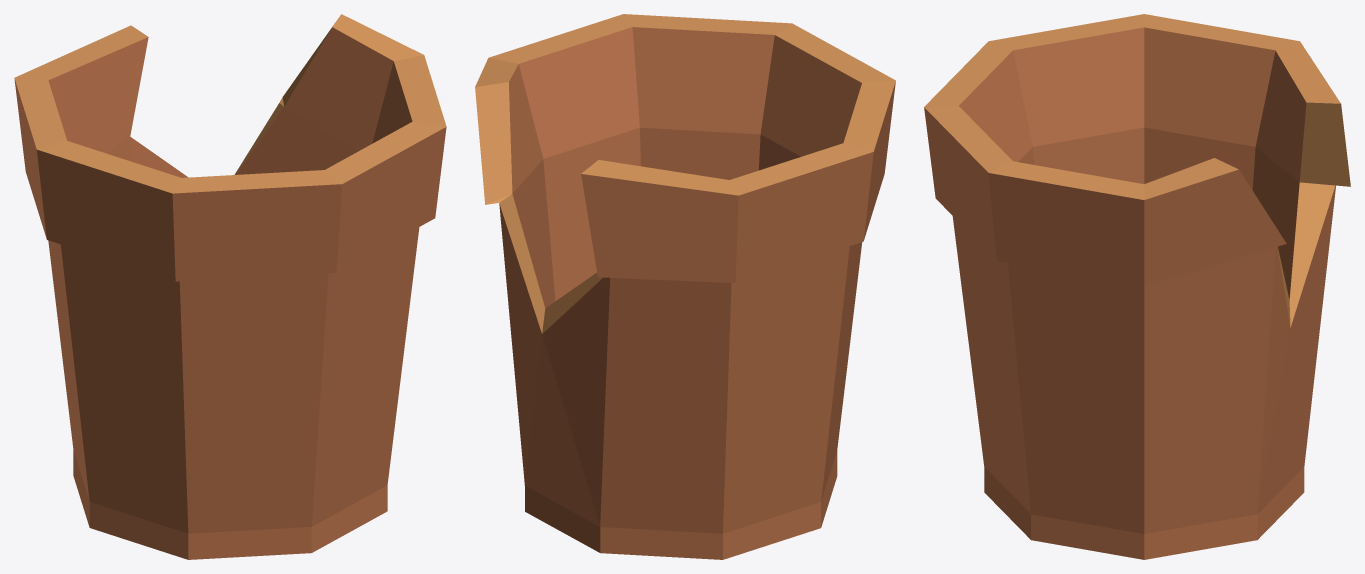
Rendered from SM_Prop_Pot_05.fbx.
The picture shows the model from 3 angles, left to right: view 1: azimuth 30°, elevation 25°; view 2: azimuth 150°, elevation 25°; view 3: azimuth 270°, elevation 25°; orthographic projection.
Parts seen in each view (by area): view 1: SM_Prop_Pot_05; view 2: SM_Prop_Pot_05; view 3: SM_Prop_Pot_05.
Boxes of the visible parts, x1,y1,x2,y2 form: SM_Prop_Pot_05: [14, 14, 446, 559]; SM_Prop_Pot_05: [475, 14, 895, 559]; SM_Prop_Pot_05: [924, 14, 1350, 559].
Bounding box in the file's own units: 28.08 × 28.17 × 27.21.
